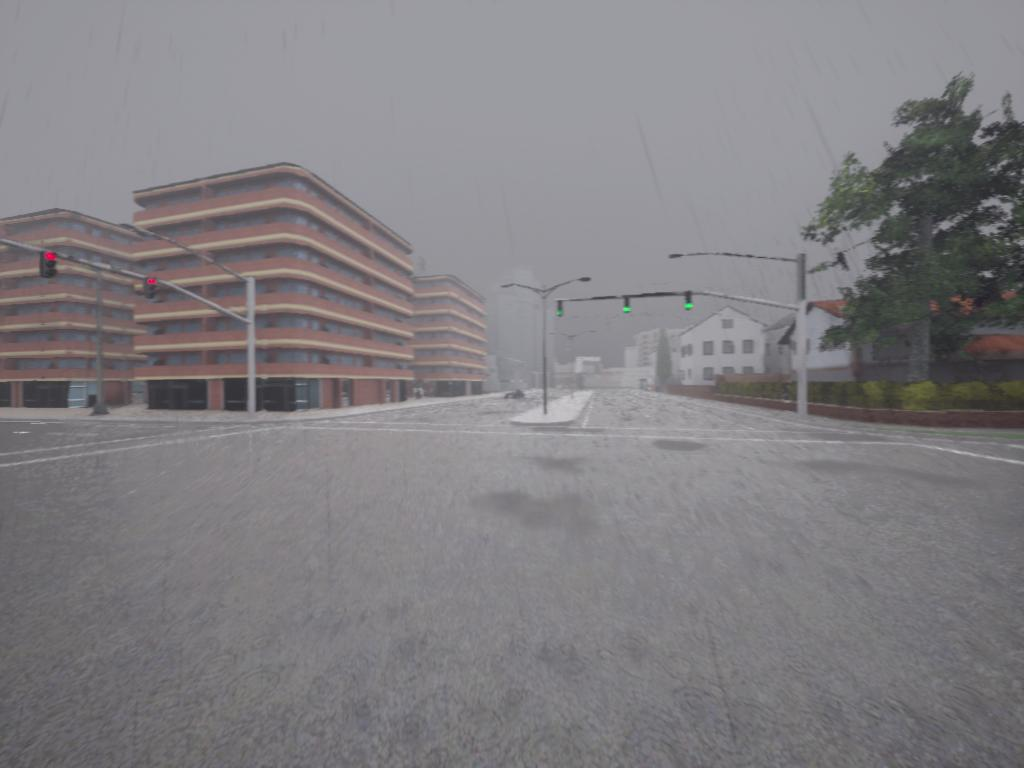traffic_light: (43, 251, 61, 281), (142, 278, 160, 302), (683, 294, 694, 311), (625, 299, 635, 313), (557, 300, 563, 320)
